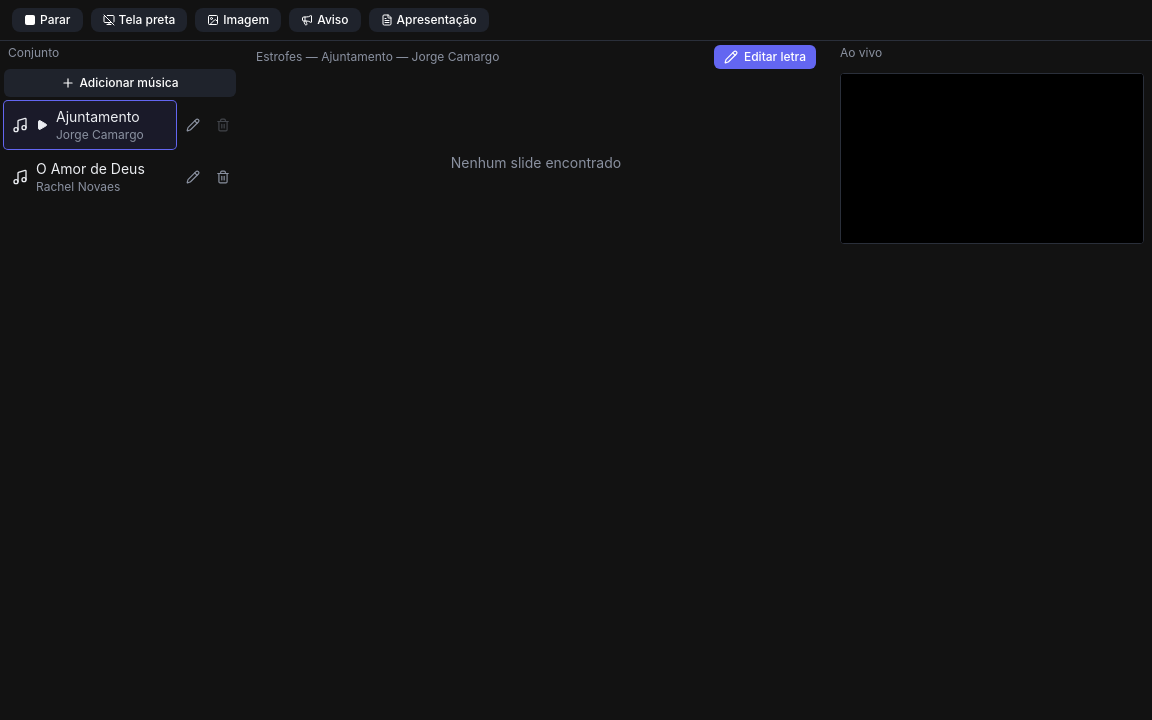
Test: Live song row edit › row edit saves that song and closes
Step 1. Click the button named "Editar música O Amor de Deus" → [193, 177], box [180,164,206,190]
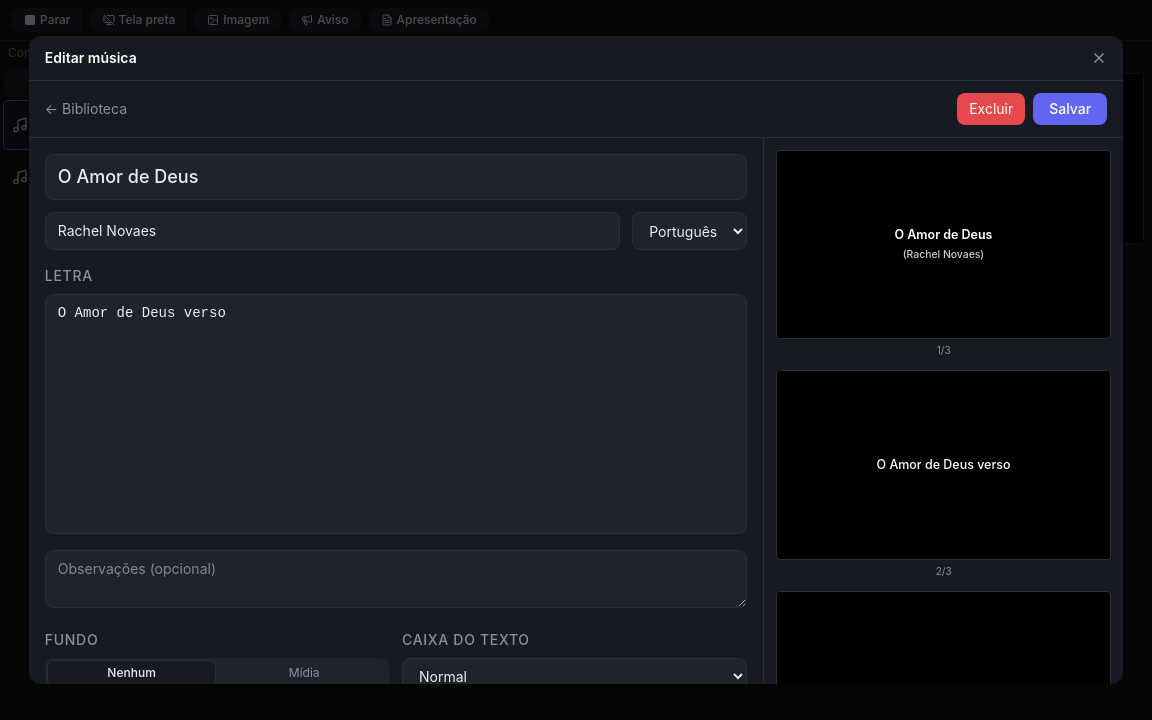
Check: the 1st field showing "O Amor de Deus" is shown, box [45,154,747,200]
Step 2. Click the button "Salvar" → [1070, 109], box [1033,93,1107,125]
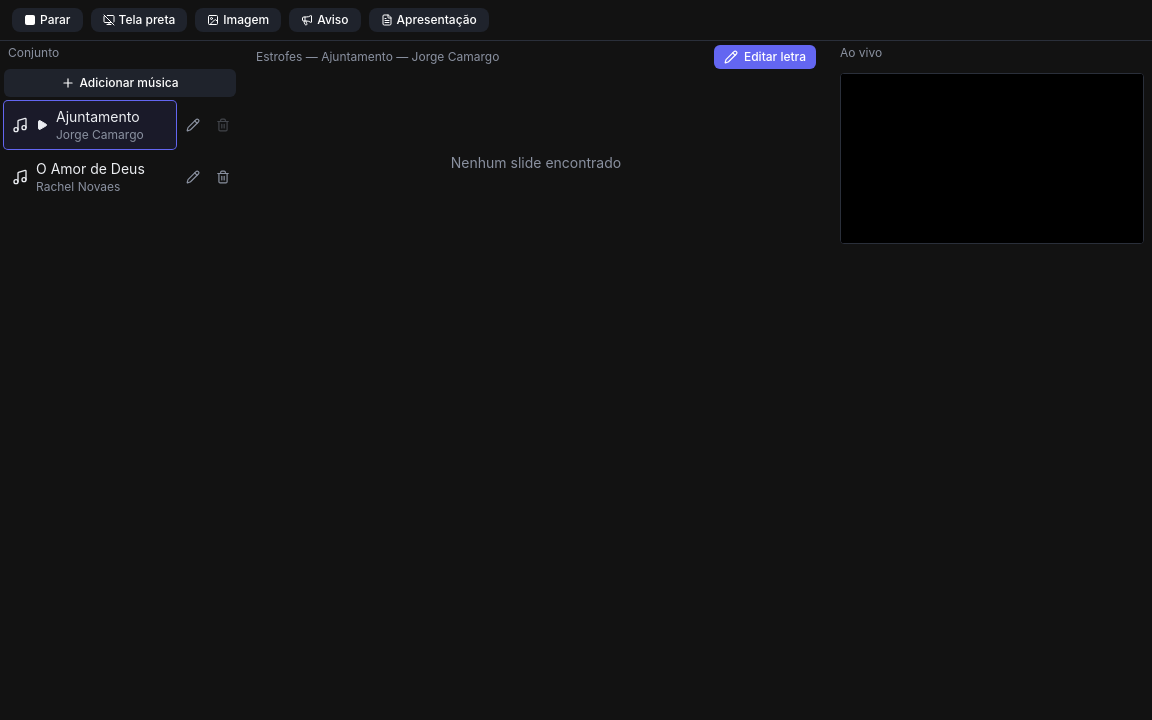
Check: the element with test id "live-song-edit-modal" is gone
